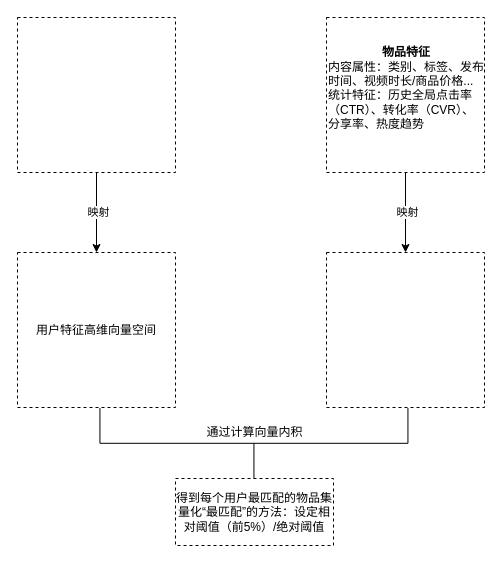
Some shapes in this 502 by 563 pixel diagram are drawn without their labels. The box of each missing label's shape, as (x1, y1, x2, y2) in pixels:
物品特征高维向量空间: (326, 252, 484, 408)
用户特征 静态特征：年龄、性别、地域、手机型号... 动态特征：历史点击、点赞、完播、购买记录... 兴趣标签：长期偏好、短期偏好...: (16, 16, 176, 172)
